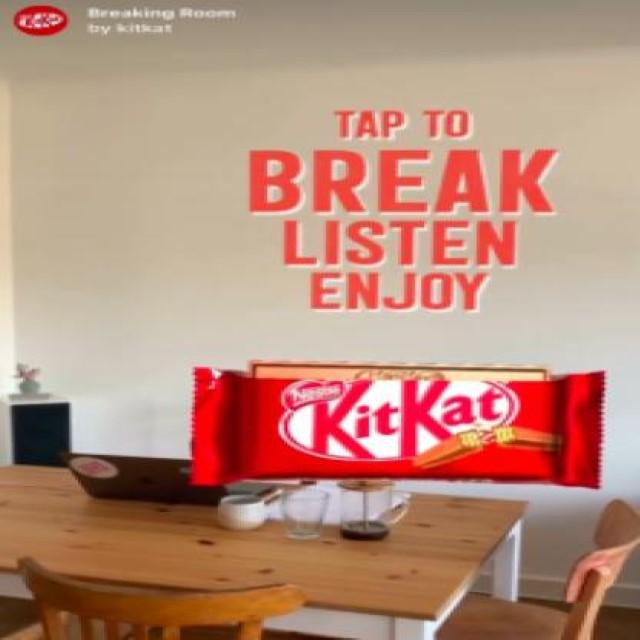kitkat_chocolate: (193, 368, 640, 546)
